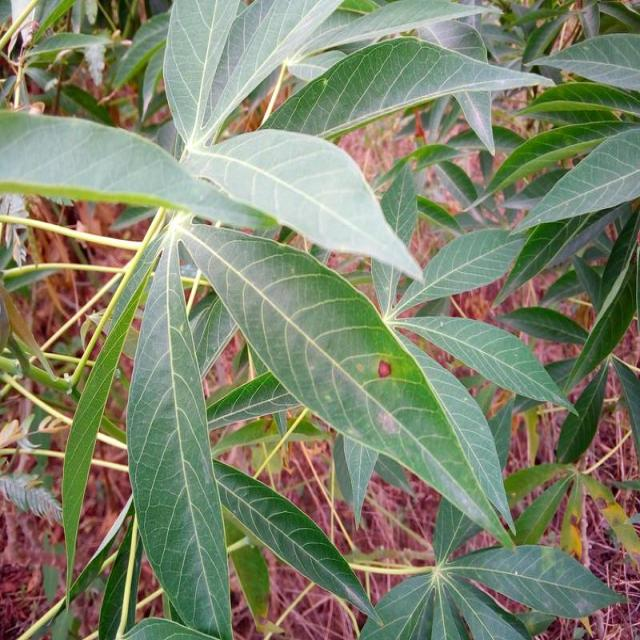cassava leaf: (174, 216, 516, 550), (124, 227, 233, 637), (0, 106, 280, 232)
